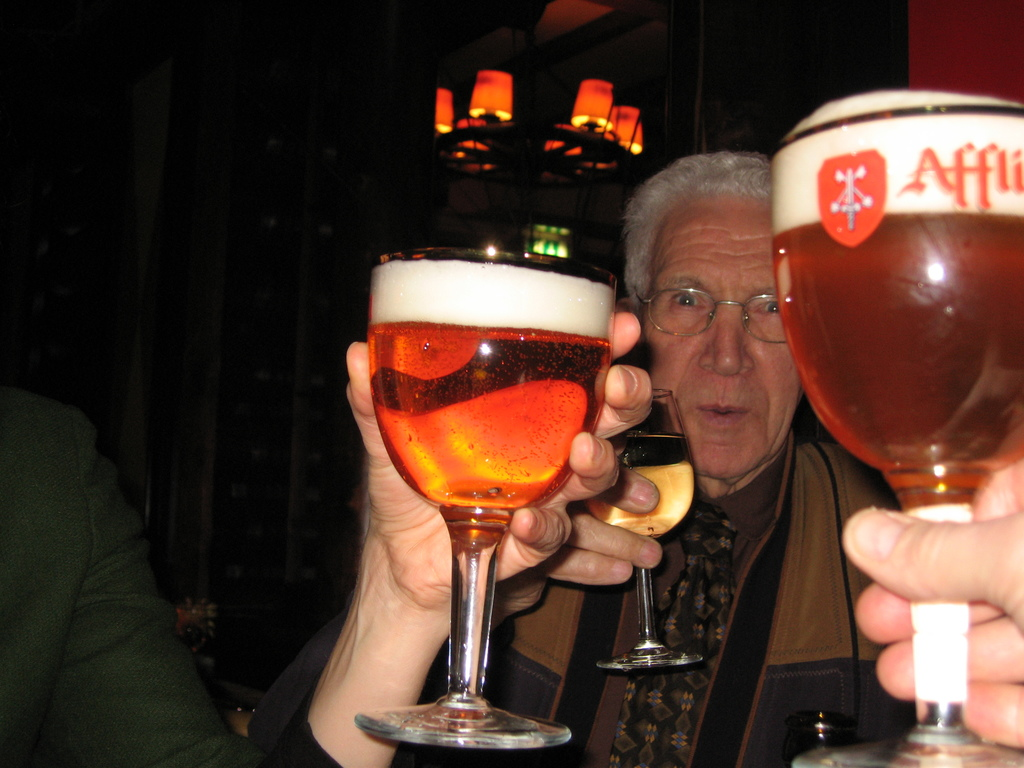Beer: (776, 88, 1022, 489), (363, 256, 613, 510)
